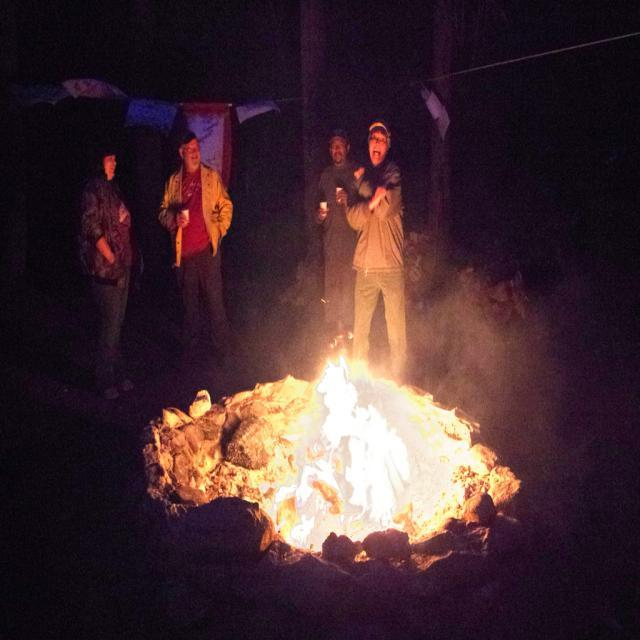Fire: (291, 352, 409, 518)
